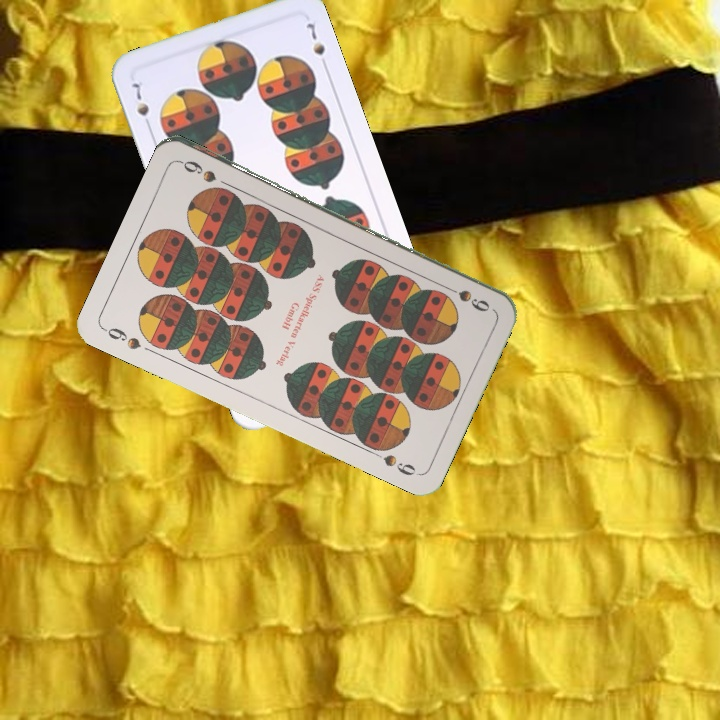S7: (127, 78, 154, 133)
S9: (438, 280, 492, 314), (99, 323, 144, 353)
